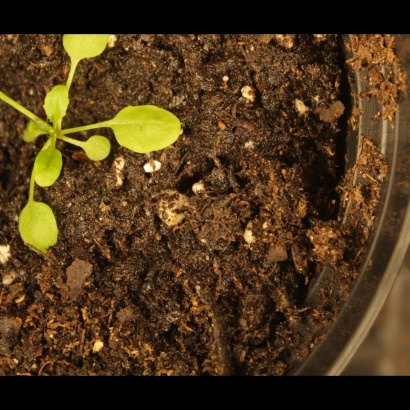leaf: (107, 101, 195, 159), (16, 197, 66, 262), (31, 140, 72, 189), (59, 29, 110, 63), (78, 131, 120, 166), (41, 83, 74, 123), (21, 114, 49, 146)
